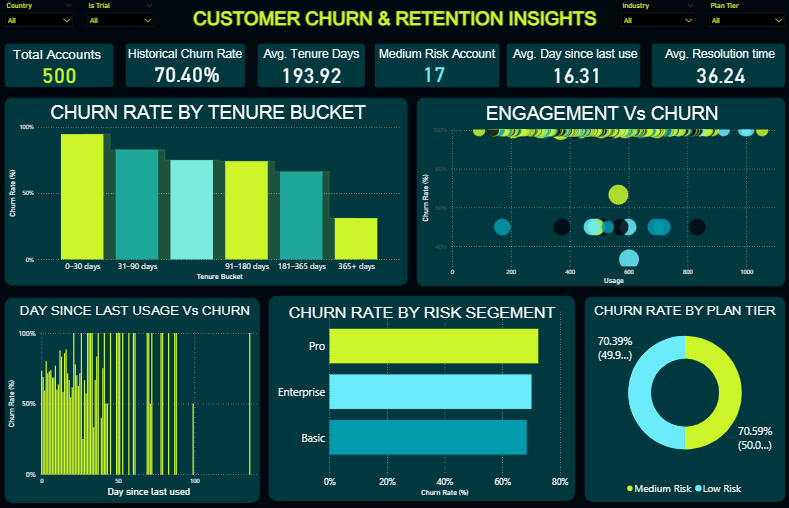

This screenshot's page, from the dashboard's own definition file:
{"tool":"powerbi","page":{"name":"Page 1","canvas":[1580,1020],"ordinal":0},"visuals":[{"type":"shape","box":[0,80.8,235.8,105.3],"z":0},{"type":"shape","box":[241.1,80,257.8,105.6],"z":1000},{"type":"shape","box":[506.7,80.8,233.1,105.6],"z":2000},{"type":"shape","box":[740,80,268,106],"z":3000},{"type":"shape","box":[1004,80,286,106],"z":4000},{"type":"shape","box":[1294.6,80,285.4,106.2],"z":5000},{"type":"card","fields":{"Values":["accounts_final.Total Accounts"]},"box":[0,113.1,235.8,67.8],"z":6000},{"type":"textbox","box":[0,85.8,235.8,55.7],"z":7000},{"type":"card","fields":{"Values":["usage_metrics_account.Churn Rate (%)"]},"box":[247.9,112.3,251,67.7],"z":8000,"group":"g1"},{"type":"card","fields":{"Values":["usage_metrics_account.Average Tenure (Days)"]},"box":[506.9,113.3,233.1,67.8],"z":9000},{"type":"card","fields":{"Values":["usage_metrics_account.High Risk Accounts"]},"box":[742,114,252,66],"z":10000,"group":"g3"},{"type":"card","fields":{"Values":["usage_metrics_account.Avg Days Since Last Usage"]},"box":[1016,113.6,275.3,68.4],"z":11000,"group":"g2"},{"type":"card","fields":{"Values":["usage_metrics_account.Avg Resolution Time (Hours)"]},"box":[1304.7,113.1,275.3,68.4],"z":12000,"group":"g2"},{"type":"textbox","box":[247.8,85.6,250.8,55.3],"z":13000,"group":"g1"},{"type":"textbox","box":[0,5,1580,81.7],"z":14000},{"type":"textbox","box":[506.9,86,233.1,55.7],"z":14000},{"type":"textbox","box":[748,86,252,54],"z":15000,"group":"g3"},{"type":"textbox","box":[1016,86,275.3,56.2],"z":16000,"group":"g2"},{"type":"textbox","box":[1305.4,86.5,274.6,54.3],"z":17000,"group":"g2"},{"type":"shape","box":[0,188.9,824.4,394.4],"z":18000},{"type":"lineStackedColumnComboChart","fields":{"Category":["accounts_final.tenure_bucket"],"Y":["usage_metrics_account.Churn Rate (%)"],"Y2":["usage_metrics_account.Churn Rate (%)"]},"box":[12,242.6,794,326.8],"z":19000},{"type":"shape","box":[824,188.7,756,396.2],"z":20000},{"type":"scatterChart","fields":{"X":["usage_metrics_account.total_usage"],"Y":["usage_metrics_account.Churn Rate (%)"],"Series":["accounts_final.tenure_bucket"],"Size":["Count(support_metrics_account.account_id)"]},"box":[838,248.4,732,328.7],"z":21000},{"type":"shape","box":[0,587.1,528.8,428.9],"z":22000},{"type":"lineStackedColumnComboChart","fields":{"Category":["usage_metrics_account.days_since_last_usage"],"Y":["usage_metrics_account.Churn Rate (%)"]},"box":[10,652.5,518,348],"z":23000},{"type":"shape","box":[528.8,584.8,631.2,428.9],"z":24000},{"type":"shape","box":[1160,586.8,420,429.2],"z":24000},{"type":"clusteredBarChart","fields":{"Category":["accounts_final.plan_tier"],"Y":["usage_metrics_account.Churn Rate (%)"]},"box":[542,610,600,390.6],"z":25000},{"type":"donutChart","fields":{"Category":["churn_risk_segments.churn_risk_segment"],"Y":["usage_metrics_account.Churn Rate (%)"]},"box":[1182,610,376,390.6],"z":26000},{"type":"textbox","box":[18,194.3,796,69.6],"z":26001},{"type":"textbox","box":[836,196.2,736,67.7],"z":26002},{"type":"textbox","box":[12,598.4,516,54.1],"z":26003},{"type":"textbox","box":[544,598.4,600,54.1],"z":26004},{"type":"textbox","box":[1176,598.4,388,54.1],"z":26005},{"type":"slicer","fields":{"Values":["accounts_final.plan_tier"]},"box":[1408,0,172,80],"z":26007},{"type":"slicer","fields":{"Values":["accounts_final.industry"]},"box":[1232,0,168,80],"z":26008},{"type":"slicer","fields":{"Values":["accounts_final.country"]},"box":[0,0,156,80],"z":26009},{"type":"slicer","fields":{"Values":["accounts_final.is_trial"]},"box":[164,0,154,80],"z":26010},{"type":"group","id":"g1","title":"Group 2","box":[247.8,85.6,251.1,94.4],"z":26012},{"type":"group","id":"g2","title":"Group 1","box":[1016,86,564,96],"z":26013},{"type":"group","id":"g3","title":"Group 3","box":[742,86,258,94],"z":26014}]}

Visuals, with their boxes in screenshot pixels (x1, y1, x2, y2), scaled from the page's 1580x1020 canvas onto the 789x508 screenshot:
shape: 0,40,118,93
shape: 120,40,249,92
shape: 253,40,369,93
shape: 370,40,503,93
shape: 501,40,644,93
shape: 646,40,788,93
card - accounts_final.Total Accounts: 0,56,118,90
textbox: 0,43,118,70
card - usage_metrics_account.Churn Rate (%): 124,56,249,90
card - usage_metrics_account.Average Tenure (Days): 253,56,370,90
card - usage_metrics_account.High Risk Accounts: 371,57,496,90
card - usage_metrics_account.Avg Days Since Last Usage: 507,57,645,91
card - usage_metrics_account.Avg Resolution Time (Hours): 652,56,788,90
textbox: 124,43,249,70
textbox: 0,2,788,43
textbox: 253,43,370,71
textbox: 374,43,499,70
textbox: 507,43,645,71
textbox: 652,43,788,70
shape: 0,94,412,291
lineStackedColumnComboChart - accounts_final.tenure_bucket x usage_metrics_account.Churn Rate (%): 6,121,402,284
shape: 411,94,788,291
scatterChart - usage_metrics_account.total_usage x usage_metrics_account.Churn Rate (%): 418,124,784,287
shape: 0,292,264,506
lineStackedColumnComboChart - usage_metrics_account.days_since_last_usage x usage_metrics_account.Churn Rate (%): 5,325,264,498
shape: 264,291,579,505
shape: 579,292,788,506
clusteredBarChart - accounts_final.plan_tier x usage_metrics_account.Churn Rate (%): 271,304,570,498
donutChart - churn_risk_segments.churn_risk_segment x usage_metrics_account.Churn Rate (%): 590,304,778,498
textbox: 9,97,406,131
textbox: 417,98,785,131
textbox: 6,298,264,325
textbox: 272,298,571,325
textbox: 587,298,781,325
slicer - accounts_final.plan_tier: 703,0,788,40
slicer - accounts_final.industry: 615,0,699,40
slicer - accounts_final.country: 0,0,78,40
slicer - accounts_final.is_trial: 82,0,159,40
"Group 2" group: 124,43,249,90
"Group 1" group: 507,43,788,91
"Group 3" group: 371,43,499,90
